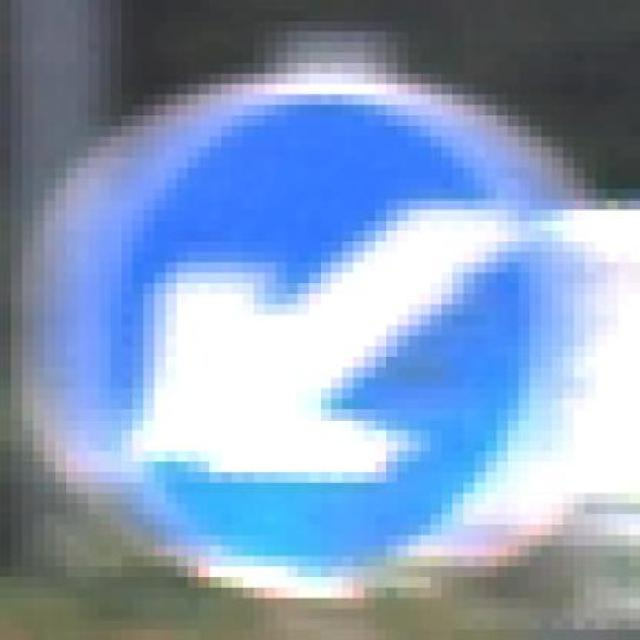Keep-Left: (66, 63, 563, 599)
